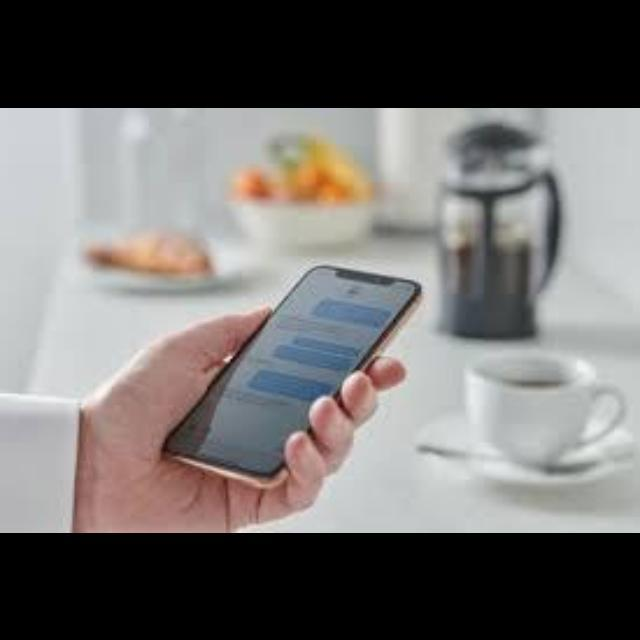Phone: (148, 268, 438, 490)
